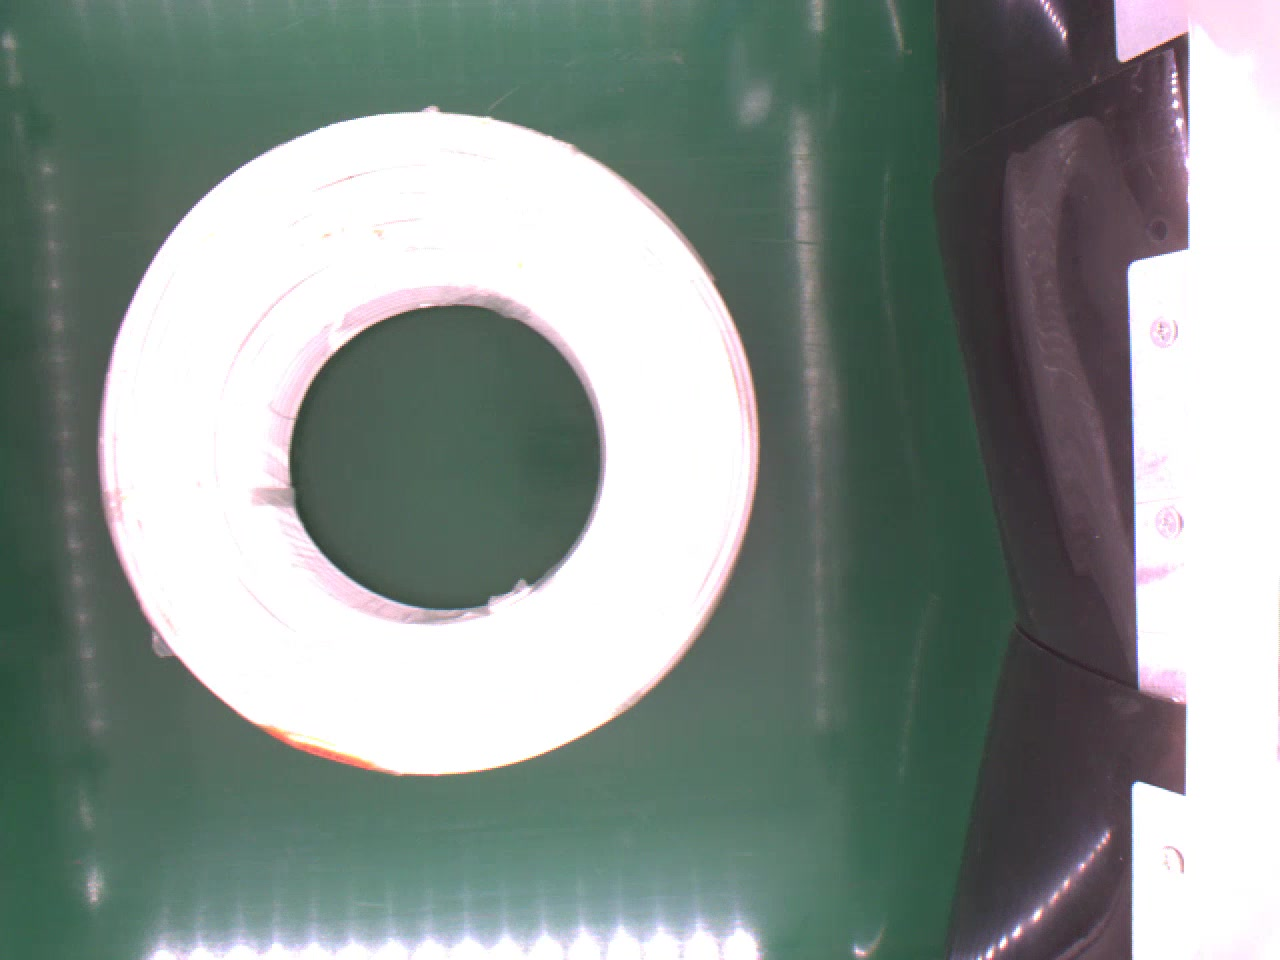white: (98, 105, 763, 790)
